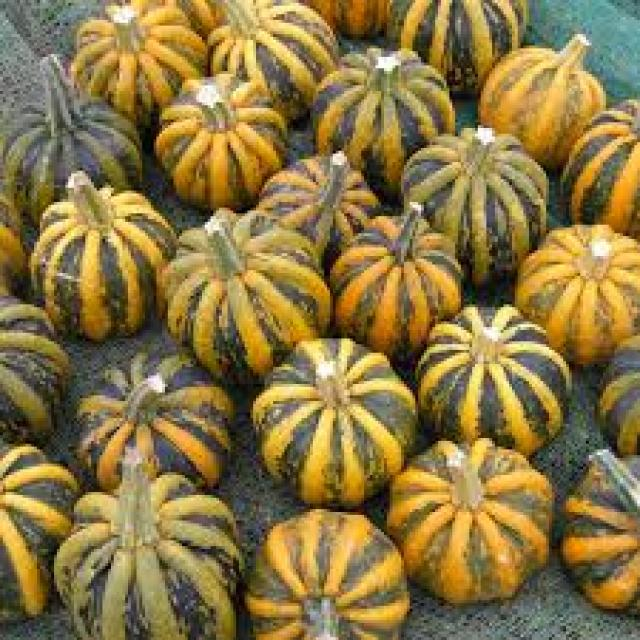organic waste: (48, 447, 242, 637), (156, 202, 333, 381), (248, 332, 416, 500), (387, 432, 549, 603), (409, 296, 572, 452), (23, 168, 174, 333), (0, 51, 139, 230), (398, 120, 546, 288), (68, 347, 234, 489), (242, 504, 409, 637), (310, 45, 458, 194), (324, 202, 461, 353), (472, 26, 606, 165), (148, 68, 287, 202), (68, 0, 205, 131), (512, 216, 637, 358), (205, 3, 338, 119), (256, 145, 384, 262), (0, 435, 74, 620), (558, 444, 637, 614), (384, 0, 523, 94), (558, 94, 637, 236), (0, 293, 65, 446), (595, 327, 637, 450), (0, 185, 40, 293), (293, 0, 393, 37)
